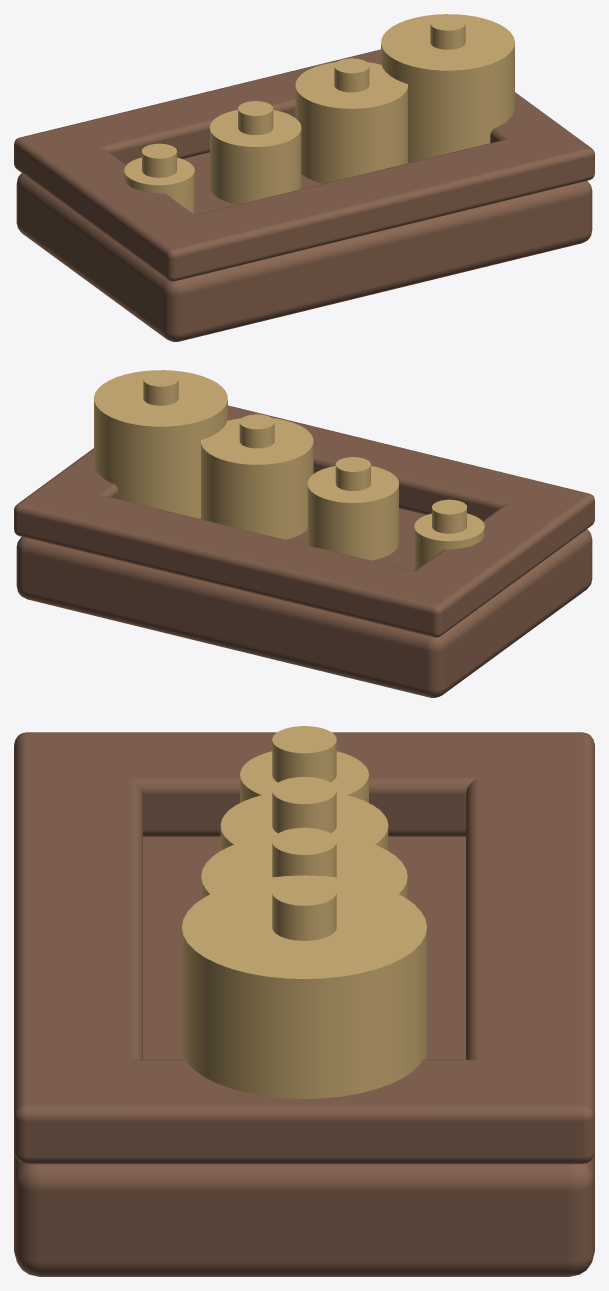
Rendered from griffin-airmail-roost-and-posthouse-balance-weight-set-a5bdddad__30518.glb.
The picture shows the model from 3 angles, top to bottom: view 1: azimuth 30°, elevation 25°; view 2: azimuth 150°, elevation 25°; view 3: azimuth 270°, elevation 25°; orthographic projection. The views are drawn at different scales.
Visible parts, largest first — view 1: balance-weight-set; view 2: balance-weight-set; view 3: balance-weight-set.
Part boxes in pixels (<box>): balance-weight-set: <box>14,14,594,341</box>; balance-weight-set: <box>14,370,594,697</box>; balance-weight-set: <box>14,726,594,1276</box>.
Size of the model in its own units: 0.28 by 0.113 by 0.18.
